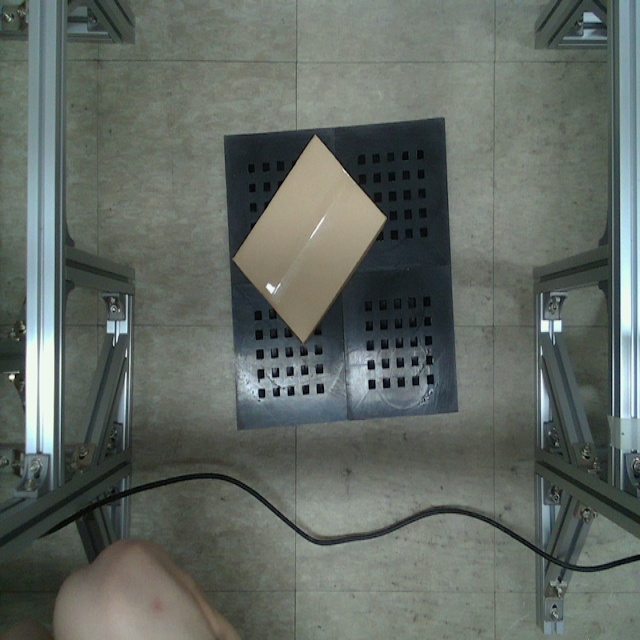box: (223, 131, 389, 352)
pallet: (217, 116, 465, 434)
